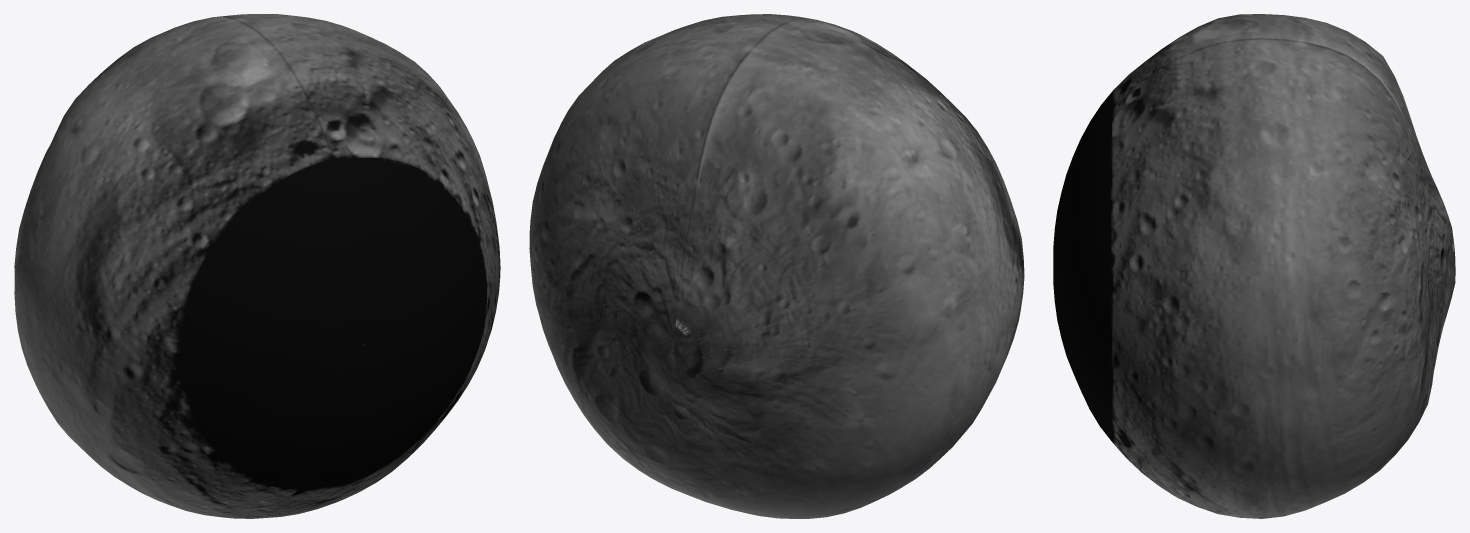
Rendered from 4vesta_21_MLfix.obj.
3 renders of one model, left to right at view 1: azimuth 30°, elevation 25°; view 2: azimuth 150°, elevation 25°; view 3: azimuth 270°, elevation 25°, orthographic. The views are drawn at different scales.
Bounding box in the file's own units: 563 × 577 × 461.
Materials: 1 (1 with a texture image).
